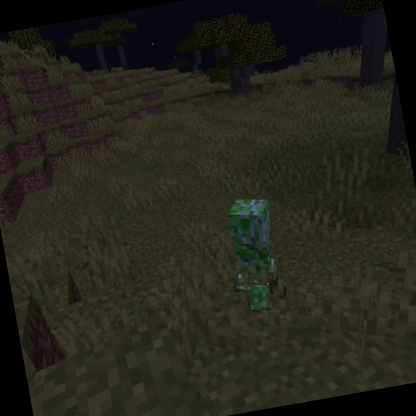creeper: (216, 190, 292, 321)
